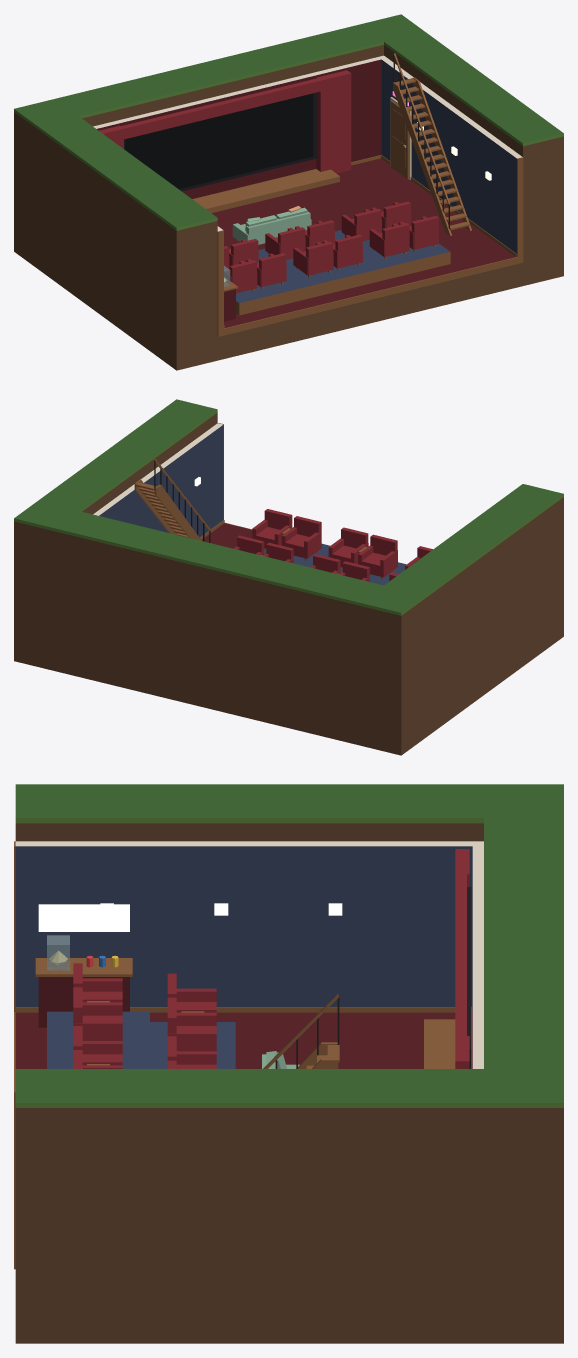
The model's file is map-cinema.glb.
3 renders of one model, top to bottom at view 1: azimuth 30°, elevation 25°; view 2: azimuth 150°, elevation 25°; view 3: azimuth 270°, elevation 25°, orthographic. The views are drawn at different scales.
Parts seen in each view (by area): view 1: Cinema_Earth, Walls, TV_Unit, Floor_Slab, Recliners, Seat_Risers, Cinema_Stair_Rail, Sofa, Cinema_Stair, Bowling_Door, Popcorn_Bar; view 2: Cinema_Earth, Recliners, Walls, Cinema_Stair_Rail, Floor_Slab, Cinema_Stair, Seat_Risers; view 3: Cinema_Earth, Walls, Floor_Slab, Recliners, Popcorn_Bar, TV_Unit, Seat_Risers, Cinema_Stair_Rail.
Part boxes in pixels (<box>): Cinema_Earth: <box>14,14,563,370</box>; Walls: <box>93,55,523,336</box>; TV_Unit: <box>99,70,351,212</box>; Floor_Slab: <box>211,158,515,327</box>; Recliners: <box>224,201,438,293</box>; Seat_Risers: <box>236,230,450,315</box>; Cinema_Stair_Rail: <box>393,53,471,235</box>; Sofa: <box>232,206,311,244</box>; Cinema_Stair: <box>395,78,469,230</box>; Bowling_Door: <box>390,91,411,179</box>; Popcorn_Bar: <box>224,265,238,321</box>; Cinema_Earth: <box>14,399,563,755</box>; Recliners: <box>233,509,432,581</box>; Walls: <box>93,423,251,539</box>; Cinema_Stair_Rail: <box>134,459,210,542</box>; Floor_Slab: <box>202,523,252,548</box>; Cinema_Stair: <box>135,482,202,540</box>; Seat_Risers: <box>264,543,406,585</box>; Cinema_Earth: <box>15,784,563,1343</box>; Walls: <box>14,841,483,1269</box>; Floor_Slab: <box>15,1012,472,1068</box>; Recliners: <box>73,963,216,1068</box>; Popcorn_Bar: <box>35,904,132,1027</box>; TV_Unit: <box>424,849,471,1068</box>; Seat_Risers: <box>47,1011,235,1068</box>; Cinema_Stair_Rail: <box>263,994,339,1068</box>.
Size of the model in its own units: 13.2 by 5.57 by 9.63.
